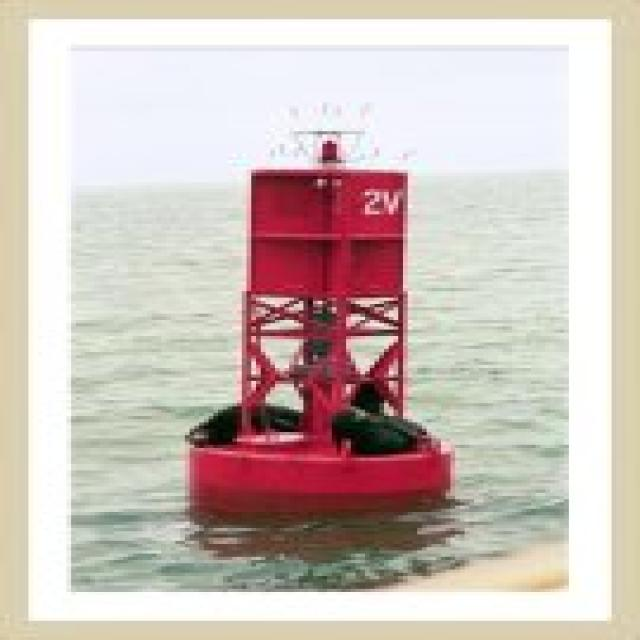buoy: (163, 73, 465, 530)
